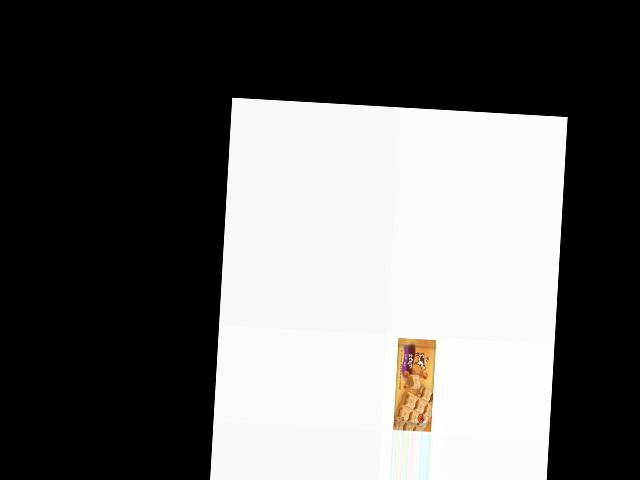chocolate: (390, 334, 436, 432)
